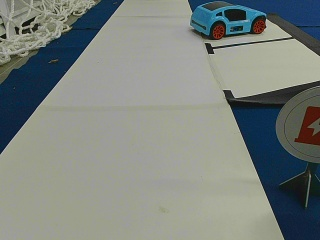battery: (274, 86, 318, 165)
car: (190, 4, 266, 38)
